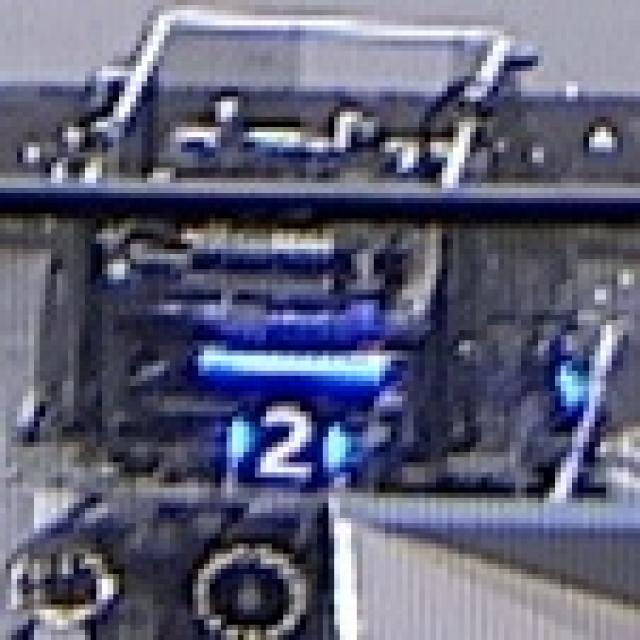B2: (221, 396, 345, 483)
